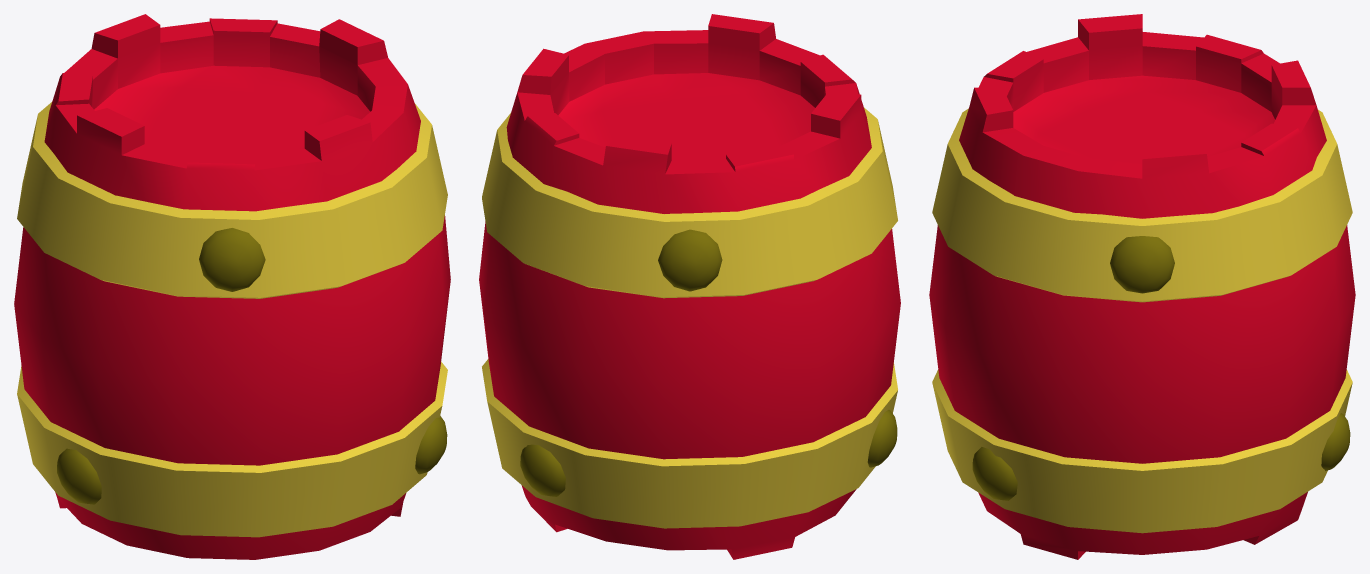
File: barrilempty.fbx
The picture shows the model from 3 angles, left to right: view 1: azimuth 30°, elevation 25°; view 2: azimuth 150°, elevation 25°; view 3: azimuth 270°, elevation 25°; orthographic projection. The views are drawn at different scales.
Visible parts, largest first — view 1: Barril; view 2: Barril; view 3: Barril.
Boxes of the visible parts, x1=… form: Barril: x1=14, y1=14, x2=450, y2=559; Barril: x1=479, y1=14, x2=900, y2=559; Barril: x1=929, y1=14, x2=1355, y2=559.
Size of the model in its own units: 0.9709 by 1.02 by 0.964.
